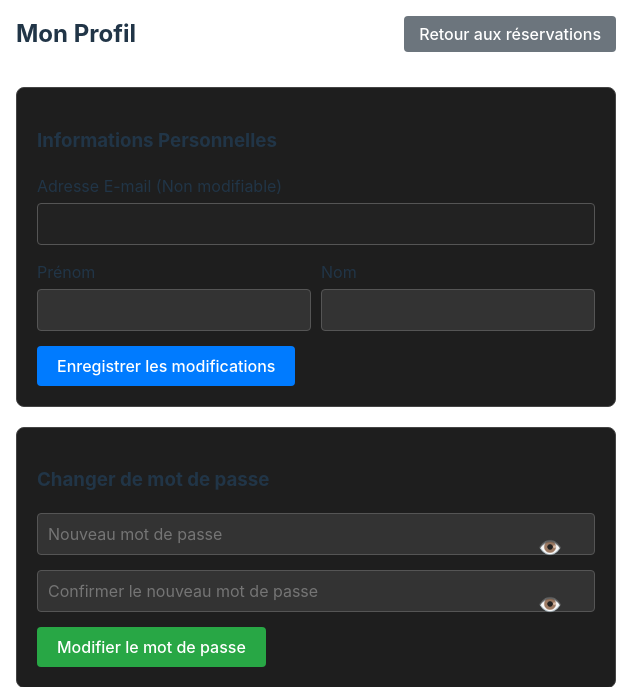
Test: Composant Profile › bloque la soumission si les mots de passe ne correspondent pas
The image size is (633, 687).
// On tape deux mots de passe différents
Type "Soleil2026!" into the password field with placeholder "Nouveau mot de passe".
click(316, 534); type("Soleil2026!")  # box x1=37 y1=513 x2=595 y2=555
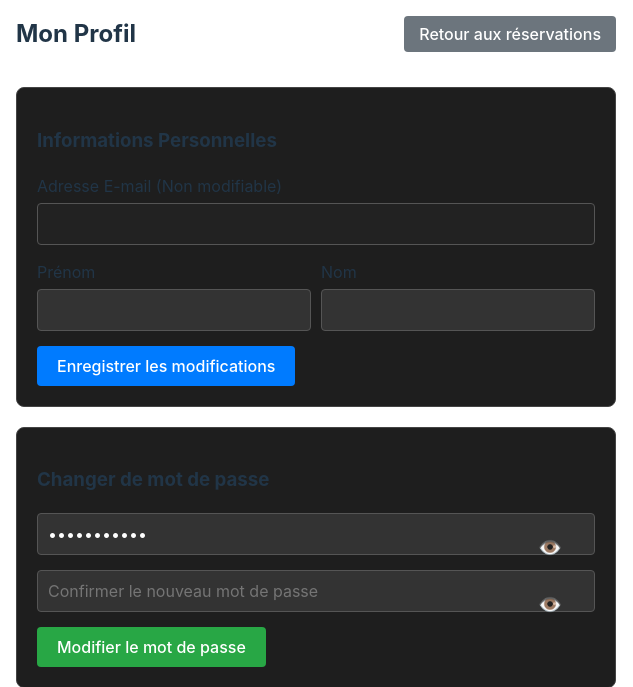
Type "Erreur2026!" into the password field with placeholder "Confirmer le nouveau mot de passe".
click(316, 591); type("Erreur2026!")  # box x1=37 y1=570 x2=595 y2=612
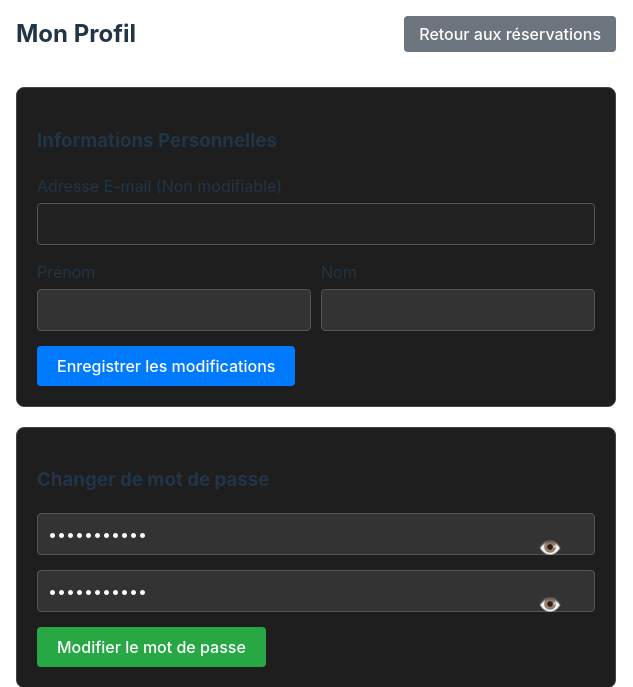
Click the button "Modifier le mot de passe".
click(151, 647)  # box x1=37 y1=627 x2=266 y2=667
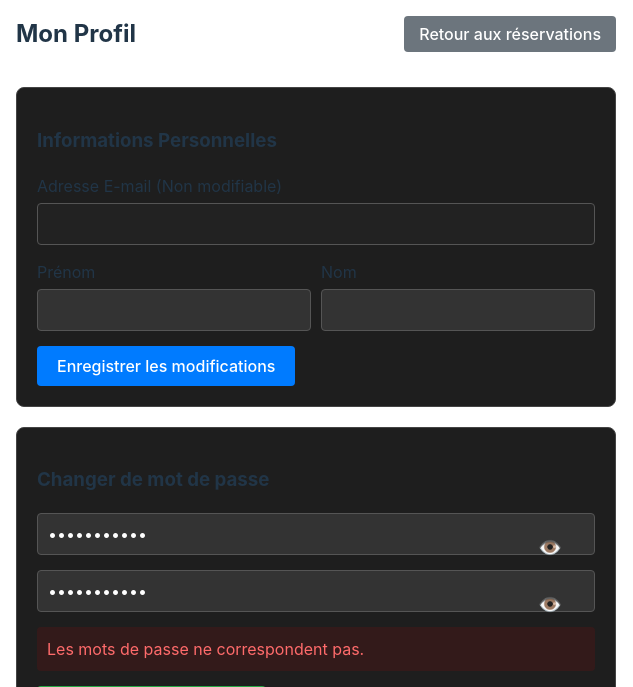
Expected: the text "Les mots de passe ne correspondent pas." is shown, x1=37 y1=627 x2=595 y2=671
